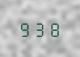eight: (47, 20, 60, 37)
nine: (18, 20, 31, 37)
three: (33, 20, 46, 37)
